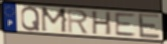E: (137, 12, 162, 40), (114, 13, 137, 38)
H: (91, 10, 113, 36)
M: (40, 6, 69, 34)
Q: (20, 6, 42, 32)
R: (67, 8, 90, 35)
